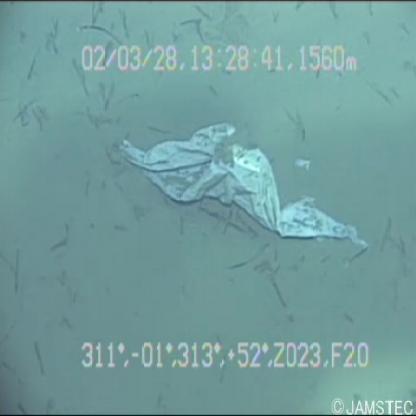Rác: (113, 96, 375, 283)
